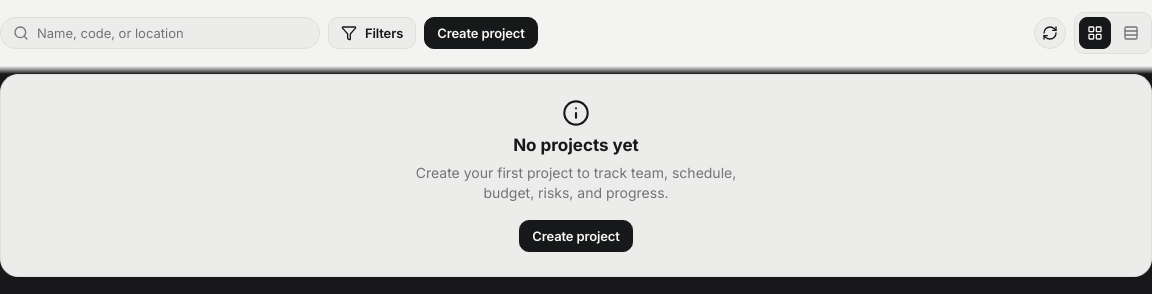
ProjectsPage › offers a way out of an over-filtered list
The image size is (1152, 294).
In the field named "Search projects": [172, 33] box [37,25,307,41], type "nothing-matches"
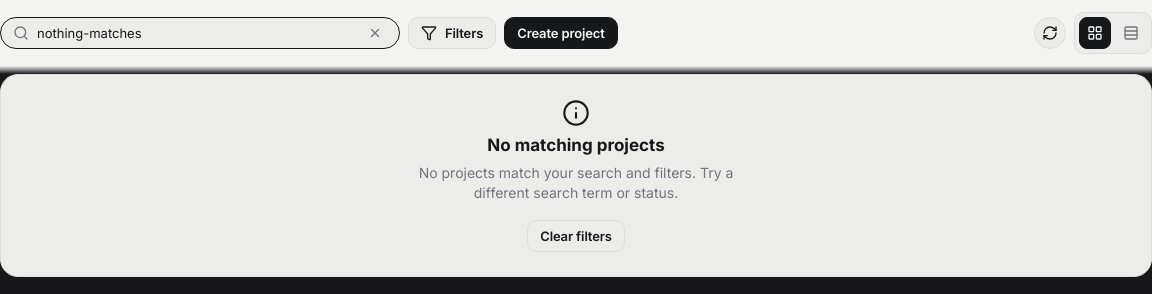
Result: the text "No matching projects" is shown at [487,135,665,155]
Click the button "Clear filters": [576, 236] box [527,220,625,252]
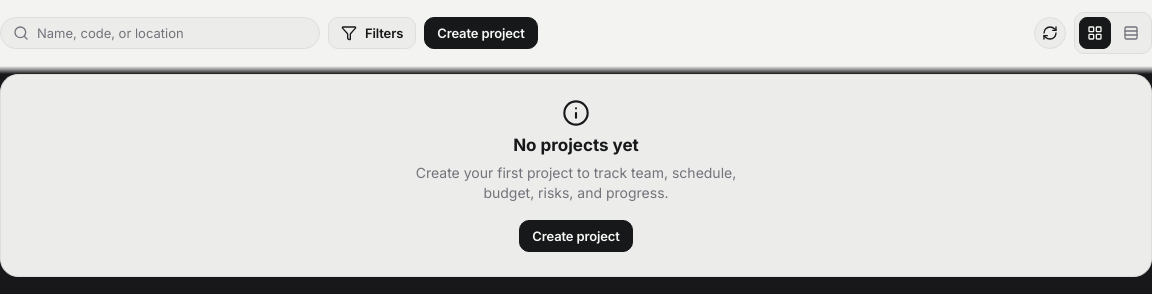
Result: the text "No projects yet" is shown at [513,135,639,155]
